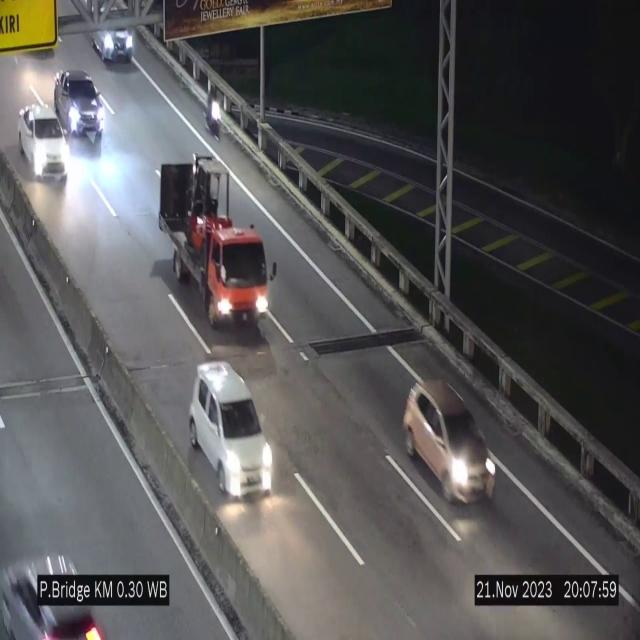Car: (0, 511, 114, 640), (405, 380, 498, 511), (189, 362, 273, 496), (18, 102, 76, 188), (84, 0, 135, 70), (54, 71, 102, 141)
Motorcycle: (206, 82, 224, 146)
Truck: (160, 157, 270, 330)
